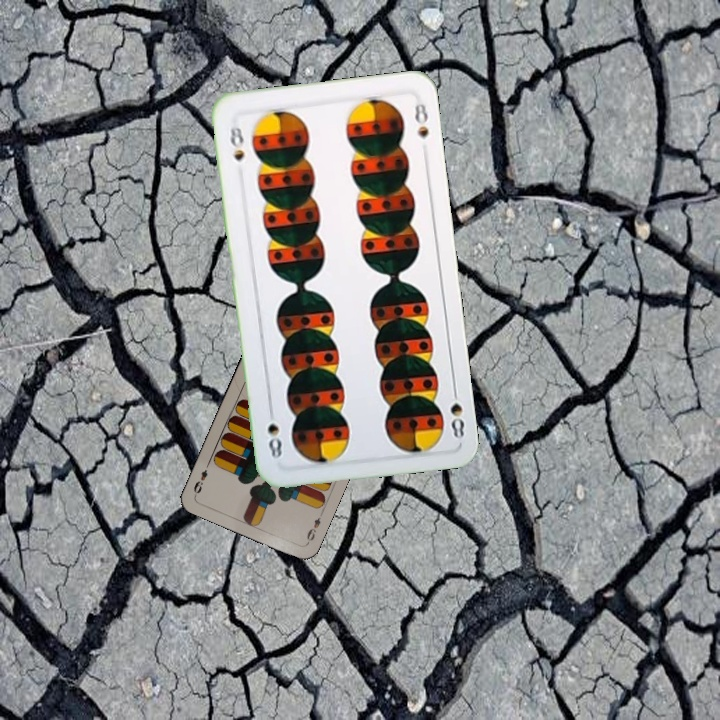E9: (302, 508, 325, 546)
S8: (446, 382, 467, 441), (226, 121, 247, 163)
